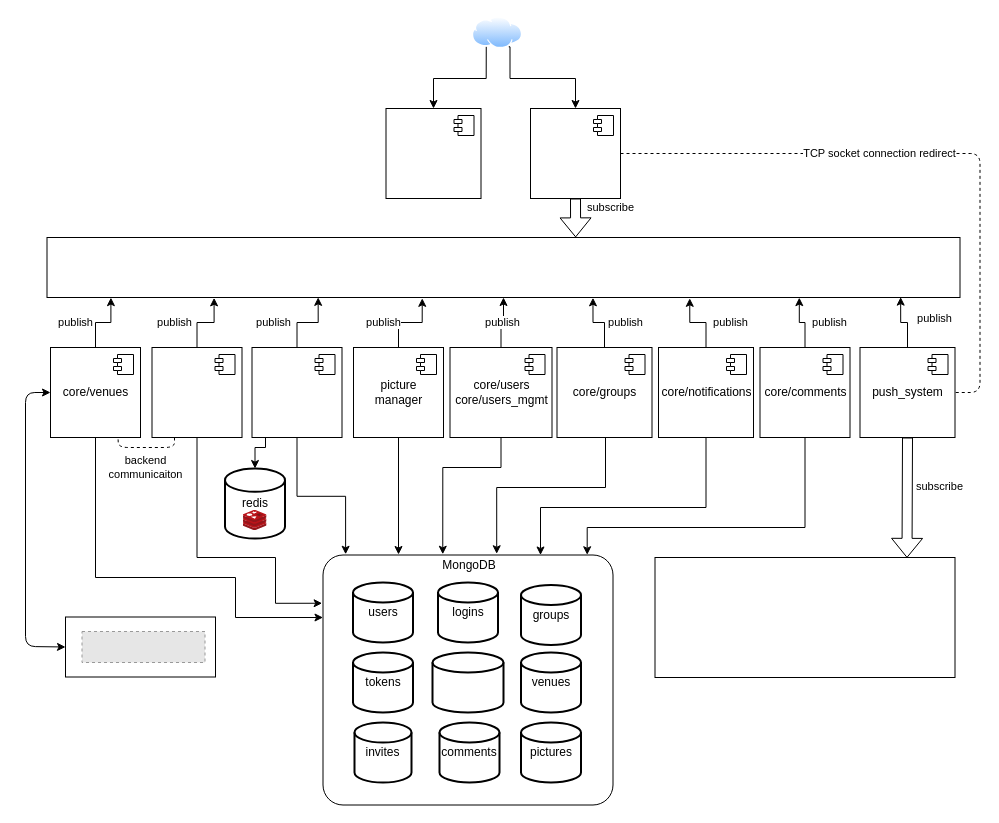
Image size: 999x823. Some labels were removed from this diagram. Grey dashed boxes stand in for pictures. The shapes that lost their labels are listed below. From the top down, each one's centre as x and y in pixels, then its label:
At (x=433, y=153): "frontend".
At (x=575, y=153): "API INSIDER".
At (x=503, y=267): "ANNOUNCE MQTT BROKER".
At (x=196, y=392): "core/locations".
At (x=296, y=392): "core/tokens".
At (x=804, y=617): "PUSH_SYSTEM MQTT BROKER".
At (x=467, y=682): "notifications".
